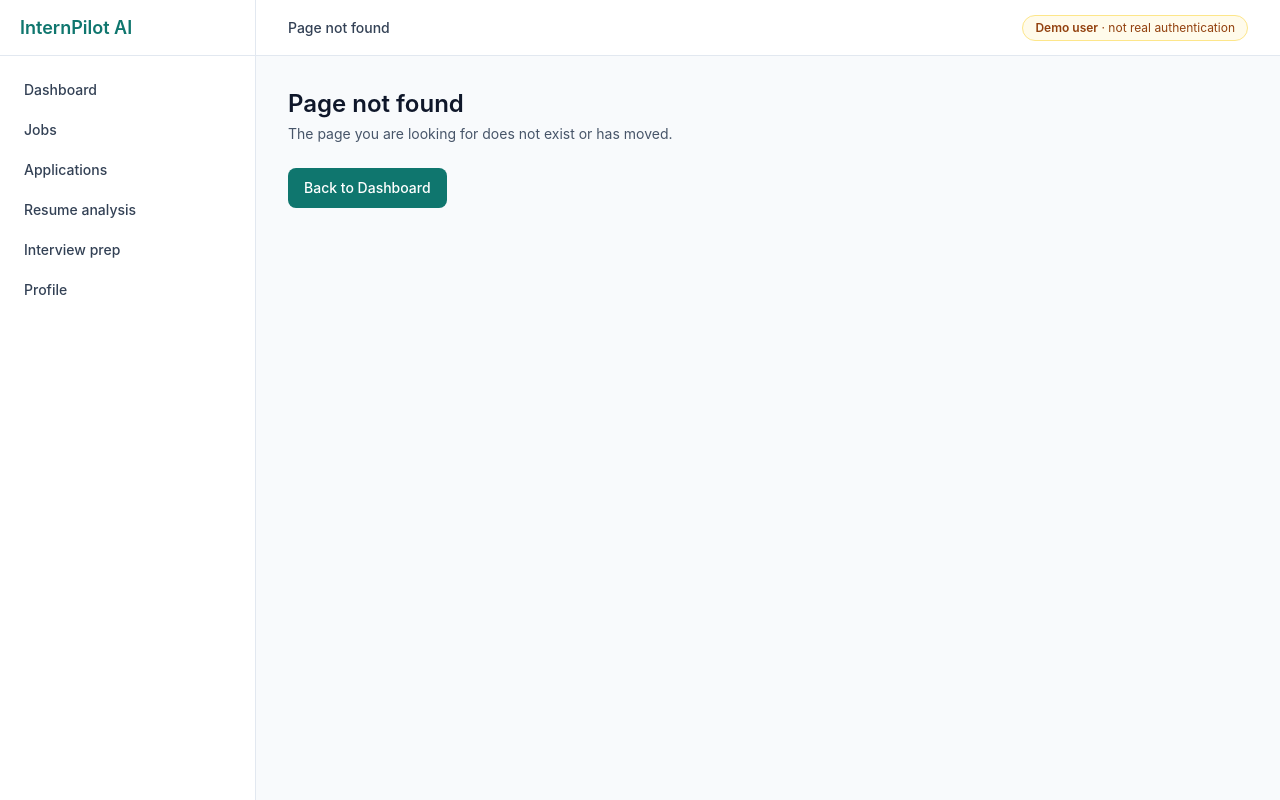
Test: AppRoutes › shows the not-found page with a dashboard link when the route is unknown
expect the heading "Page not found" is shown: met, box [288,89,464,118]
Click the link "Back to Dashboard".
click(367, 188)  # box [288,168,447,208]
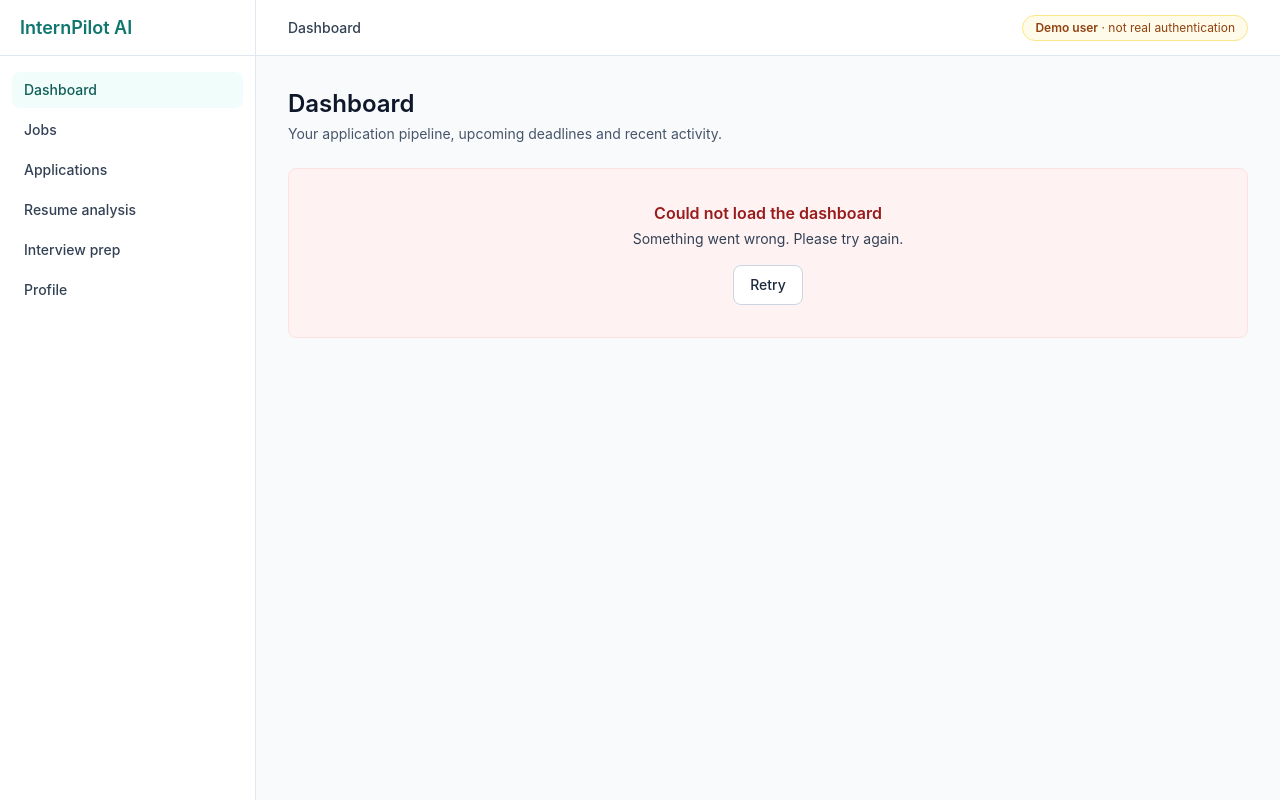
expect the heading "Dashboard" is shown: met, box [288,89,415,118]
